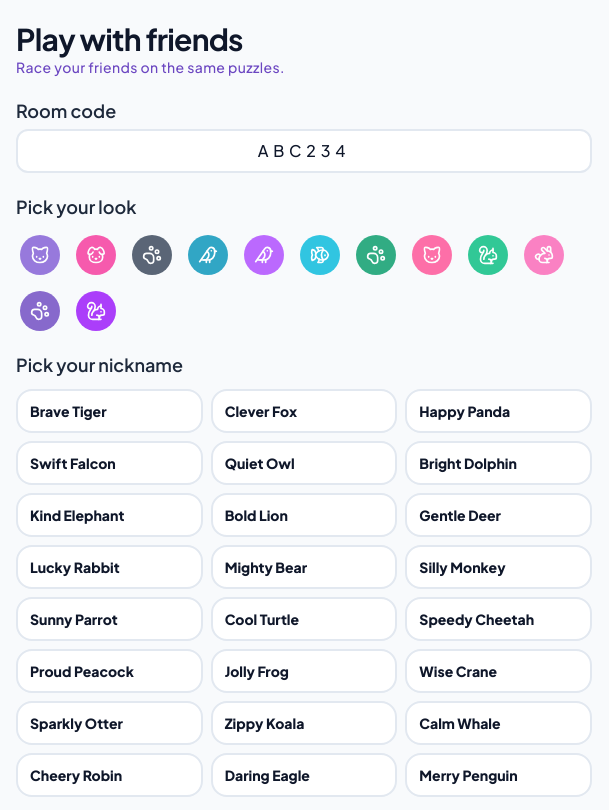
Test: joining as a guest › greys out a nickname that someone already took and asks for another
Click the button named "fox" at (96, 255), box 72,231 -> 120,279
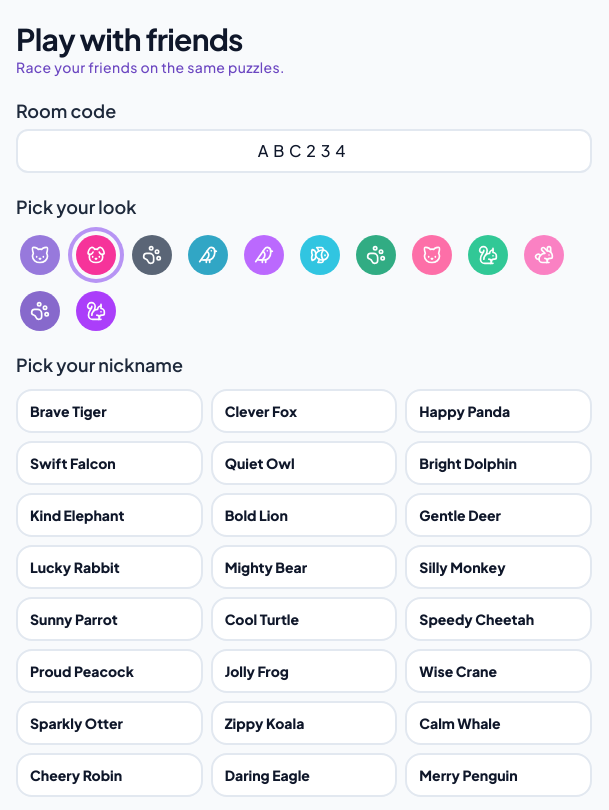
Click the button "Clever Fox" at (304, 411), box 211,389 -> 397,433
(page scrolled)
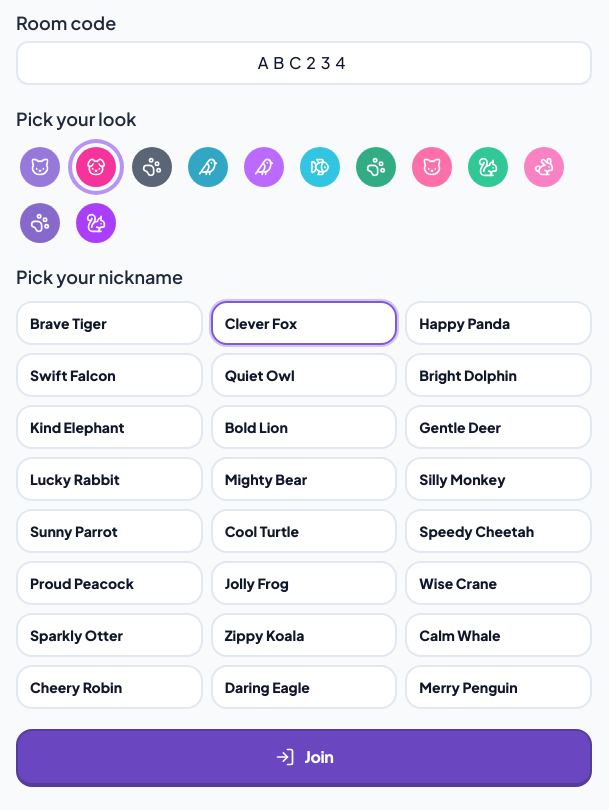
Click the button "Join" at (304, 758), box 16,729 -> 592,787
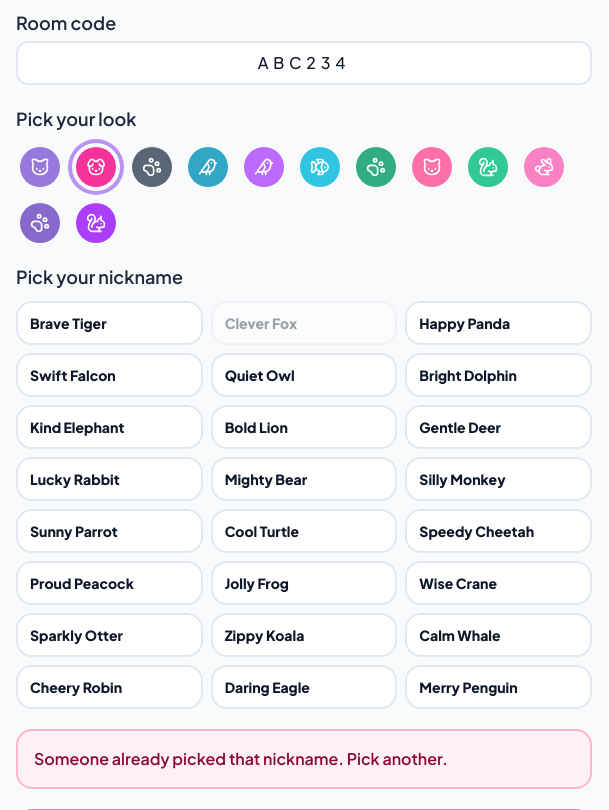
Now the text "Someone already picked that nickname. Pick another." is shown, box 16,729 -> 592,789
Now the button "Clever Fox" is disabled, box 211,301 -> 397,345
